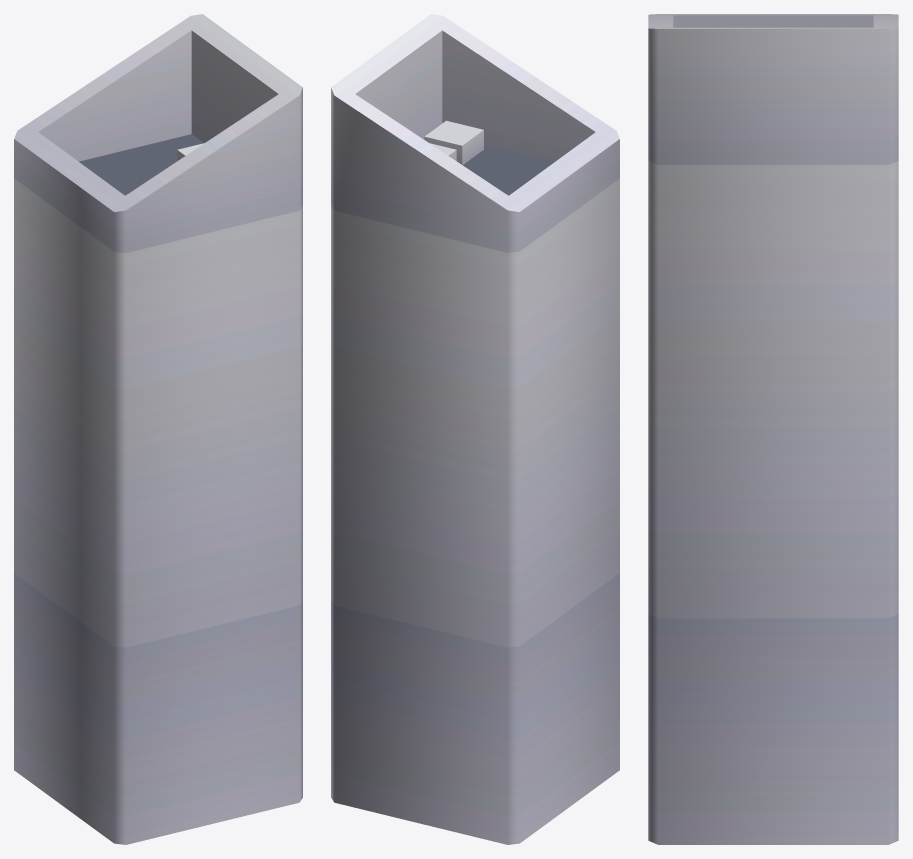
The model's file is low-detail-building-e.glb.
3 views of the same model, side by side, from view 1: azimuth 30°, elevation 25°; view 2: azimuth 150°, elevation 25°; view 3: azimuth 270°, elevation 25° (orthographic). The views are drawn at different scales.
Visible parts, largest first — view 1: low-detail-building-e; view 2: low-detail-building-e; view 3: low-detail-building-e.
Part boxes in pixels (x1=…): low-detail-building-e: x1=14, y1=14, x2=302, y2=844; low-detail-building-e: x1=331, y1=14, x2=619, y2=844; low-detail-building-e: x1=648, y1=14, x2=898, y2=844.
Size of the model in its own units: 0.5 by 1.8 by 0.5.
Materials: 1 (1 with a texture image).
